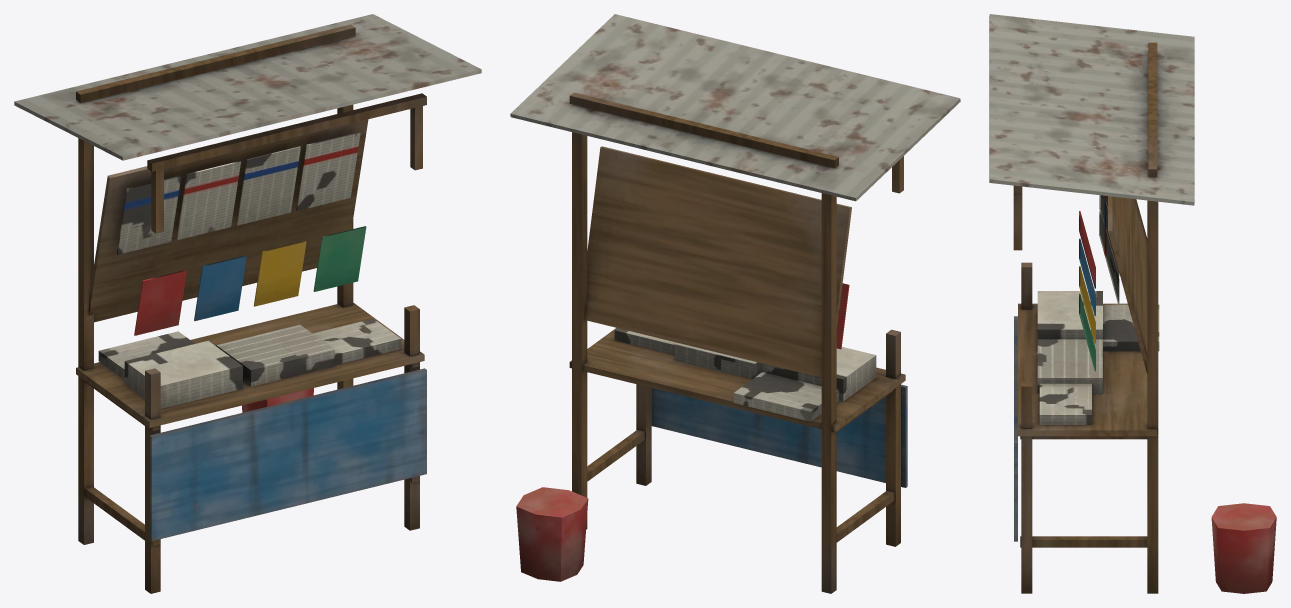
The model's file is newspaper_stand.glb.
3 renders of one model, left to right at view 1: azimuth 30°, elevation 25°; view 2: azimuth 150°, elevation 25°; view 3: azimuth 270°, elevation 25°, orthographic. The views are drawn at different scales.
Visible parts, largest first — view 1: body; view 2: body; view 3: body.
Part boxes in pixels (x1=…): body: x1=14, y1=14, x2=481, y2=593; body: x1=510, y1=14, x2=960, y2=593; body: x1=989, y1=14, x2=1276, y2=593.
Size of the model in its own units: 1.8 by 2.21 by 1.32.
1 material, 1 textured.
